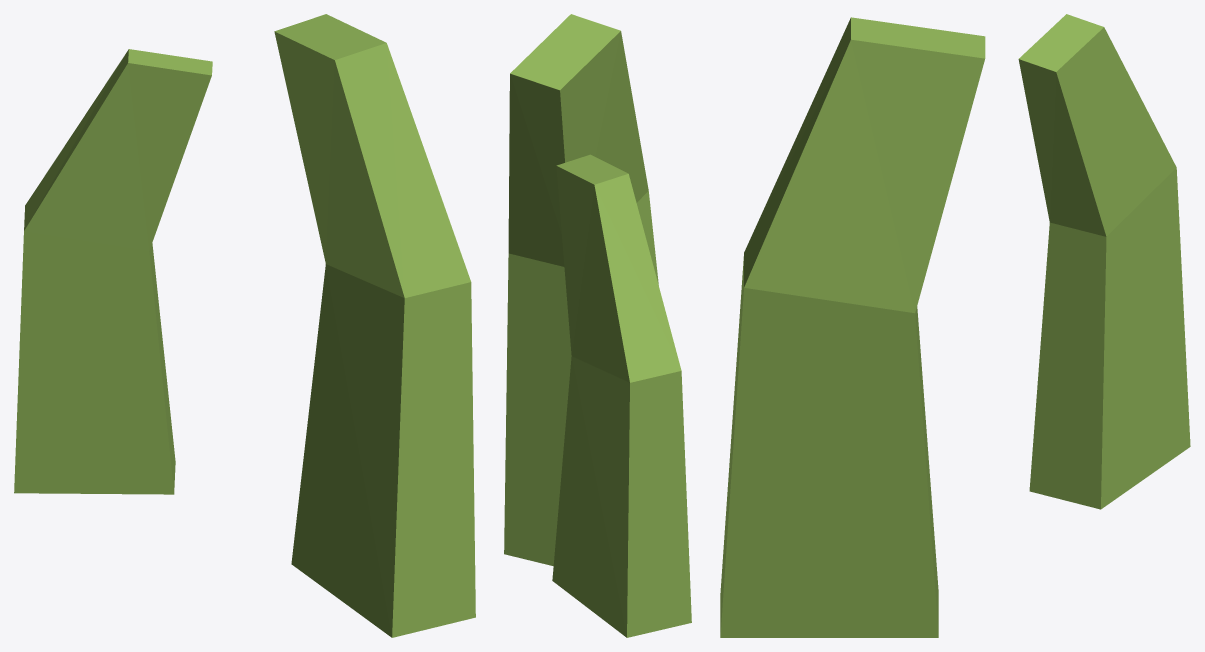
3 renders of one model, left to right at view 1: azimuth 30°, elevation 25°; view 2: azimuth 150°, elevation 25°; view 3: azimuth 270°, elevation 25°, orthographic. The views are drawn at different scales.
Parts seen in each view (by area): view 1: Grass; view 2: Grass; view 3: Grass.
Boxes of the visible parts, x1,y1,x2,y2 form: Grass: [14, 14, 475, 637]; Grass: [504, 14, 691, 637]; Grass: [720, 14, 1190, 637].
Size of the model in its own units: 0.1847 by 0.244 by 0.3339.
